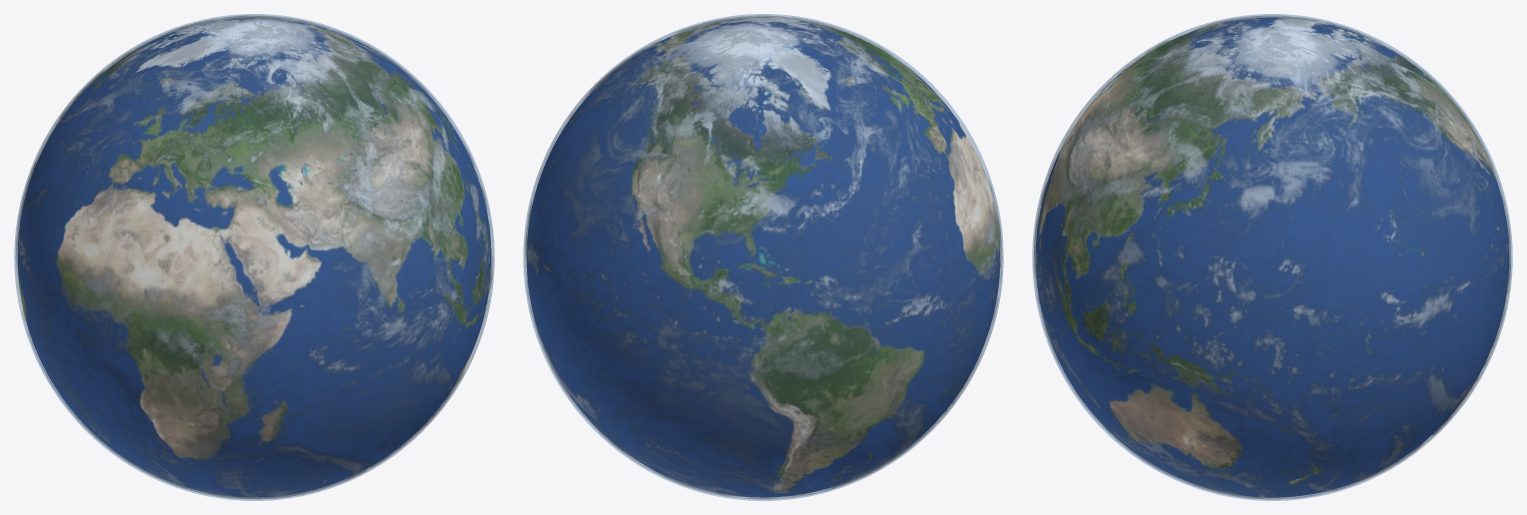
The model's file is earth-v2.glb.
The picture shows the model from 3 angles, left to right: view 1: azimuth 30°, elevation 25°; view 2: azimuth 150°, elevation 25°; view 3: azimuth 270°, elevation 25°; orthographic projection.
Parts seen in each view (by area): view 1: pSphere5_lambert7_0, pSphere1_phong1_0, pSphere4_lambert6_0; view 2: pSphere5_lambert7_0, pSphere1_phong1_0, pSphere4_lambert6_0; view 3: pSphere5_lambert7_0, pSphere1_phong1_0, pSphere4_lambert6_0.
Part boxes in pixels (bbox=[...]): pSphere5_lambert7_0: bbox=[14, 14, 494, 500]; pSphere1_phong1_0: bbox=[17, 17, 491, 497]; pSphere4_lambert6_0: bbox=[16, 15, 492, 499]; pSphere5_lambert7_0: bbox=[523, 14, 1003, 500]; pSphere1_phong1_0: bbox=[526, 17, 1000, 497]; pSphere4_lambert6_0: bbox=[525, 15, 1002, 499]; pSphere5_lambert7_0: bbox=[1032, 14, 1512, 500]; pSphere1_phong1_0: bbox=[1035, 17, 1509, 497]; pSphere4_lambert6_0: bbox=[1034, 15, 1510, 499].
Bounding box in the file's own units: 192 × 196 × 192.
3 materials, 2 textured.
